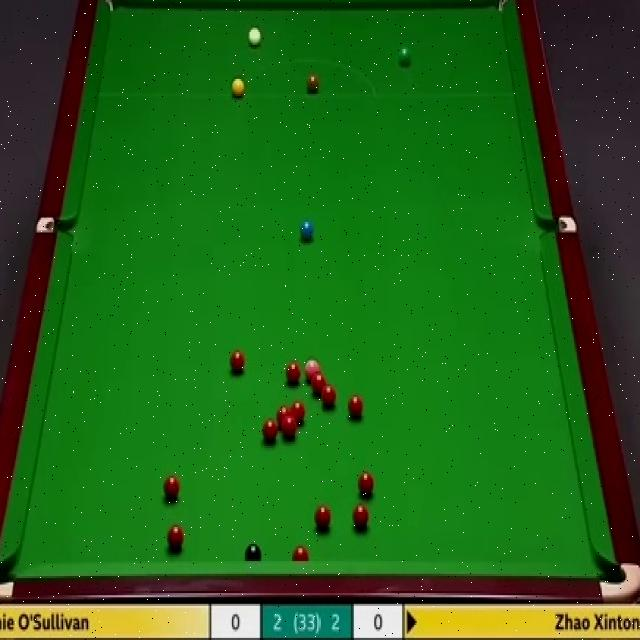black-ball: (245, 544, 263, 560)
blue-ball: (300, 220, 314, 238)
brown-ball: (307, 74, 319, 93)
green-ball: (398, 47, 411, 64)
pink-ball: (305, 358, 320, 380)
red-ball: (356, 472, 375, 498), (315, 503, 332, 532), (167, 526, 184, 551), (283, 362, 302, 384), (162, 476, 181, 498), (262, 417, 278, 443), (229, 347, 246, 371), (319, 383, 336, 407), (353, 504, 369, 529), (292, 399, 310, 421), (348, 394, 364, 418), (311, 372, 326, 391), (278, 406, 292, 426), (283, 416, 297, 436), (291, 546, 311, 560)
white-ball: (248, 27, 262, 46)
yellow-ball: (232, 77, 244, 98)
